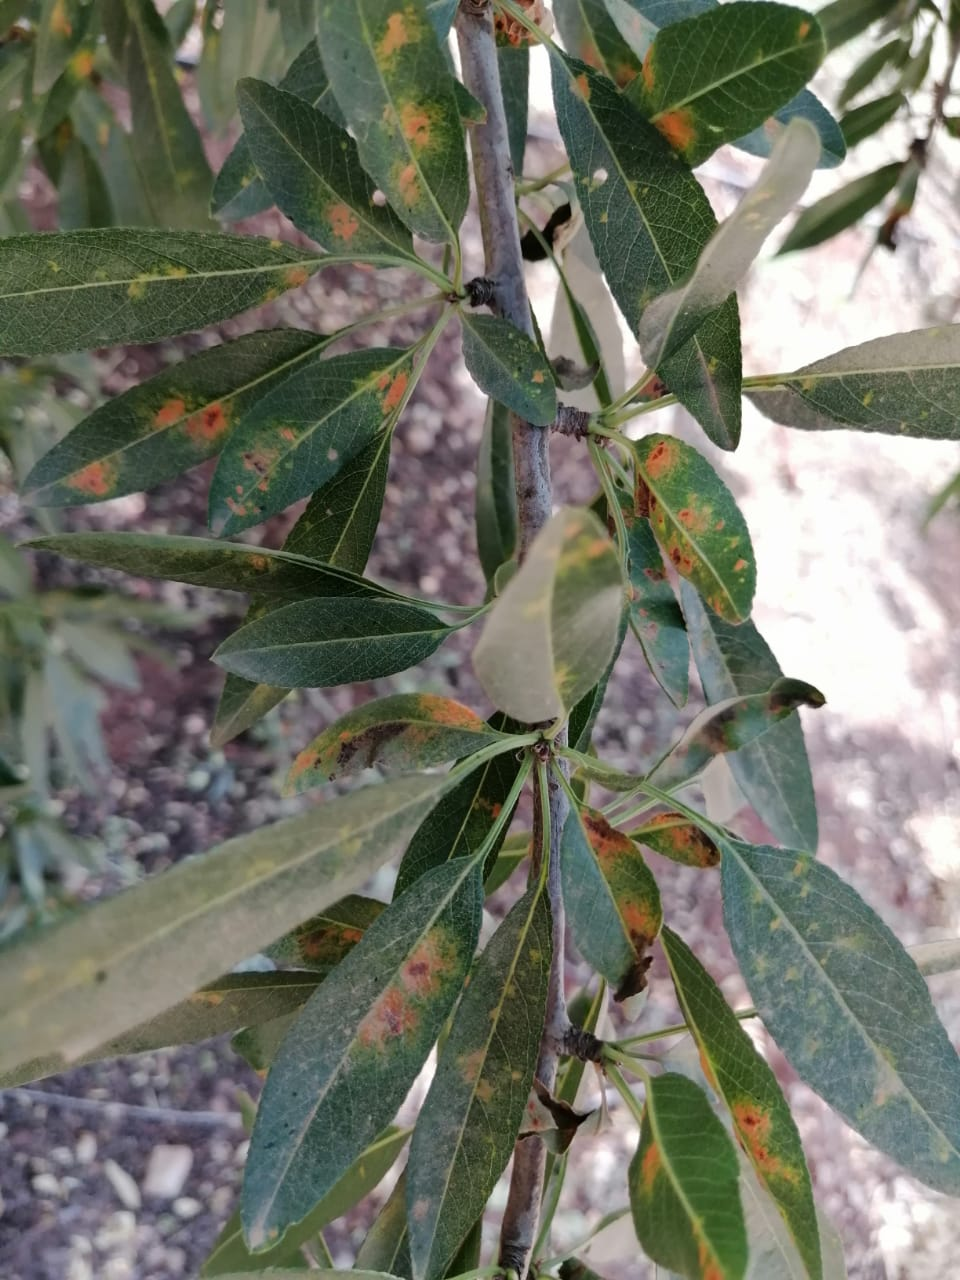polystigma: (238, 849, 492, 1252), (548, 45, 745, 456), (10, 329, 330, 518), (659, 933, 826, 1280), (202, 349, 415, 545), (314, 1, 472, 245), (638, 1, 829, 160), (624, 430, 761, 627), (626, 1077, 753, 1280), (282, 687, 502, 788), (557, 799, 665, 1000)
